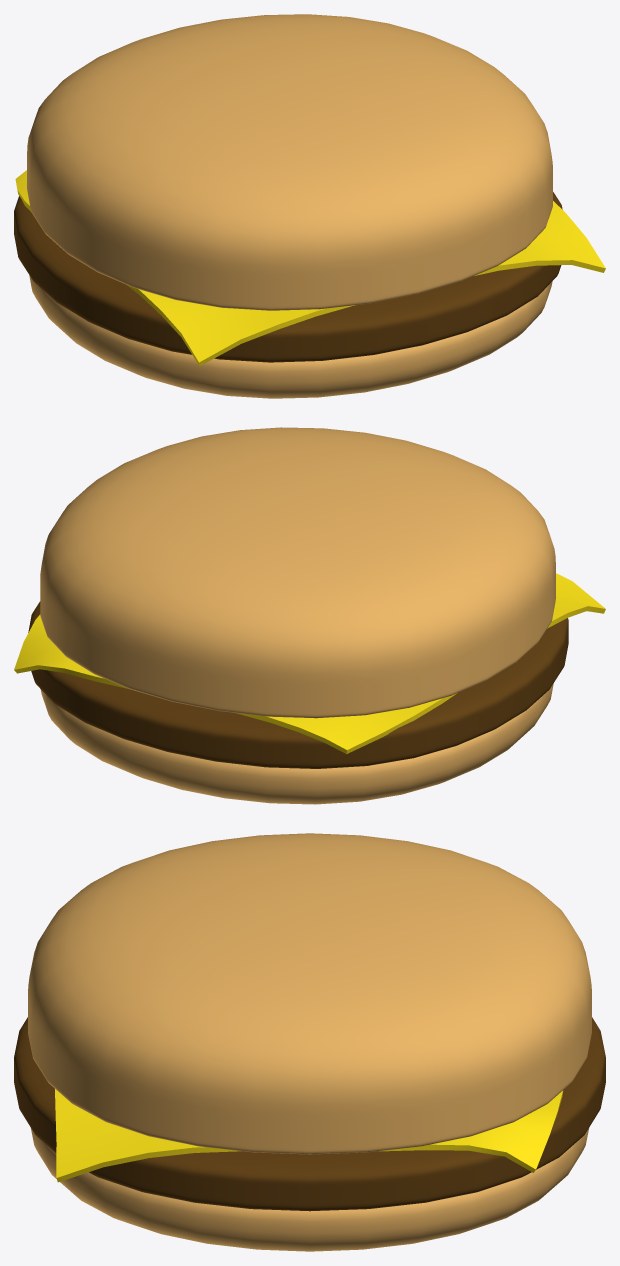
The model's file is hamburger.glb.
The picture shows the model from 3 angles, top to bottom: view 1: azimuth 30°, elevation 25°; view 2: azimuth 150°, elevation 25°; view 3: azimuth 270°, elevation 25°; orthographic projection. The views are drawn at different scales.
Visible parts, largest first — view 1: Cube.002, Cube.001, Cube, Plane; view 2: Cube.002, Cube.001, Cube, Plane; view 3: Cube.002, Cube.001, Cube, Plane.
Part boxes in pixels (box(x1,y1,x2,y2)): Cube.002: box(27, 14, 552, 310); Cube.001: box(14, 192, 562, 362); Cube: box(29, 275, 552, 398); Plane: box(15, 170, 605, 366); Cube.002: box(40, 427, 555, 718); Cube.001: box(28, 601, 568, 768); Cube: box(40, 683, 553, 804); Plane: box(14, 573, 605, 754); Cube.002: box(28, 833, 591, 1154); Cube.001: box(14, 1017, 605, 1211); Cube: box(31, 1128, 588, 1251); Plane: box(55, 1089, 563, 1182).
Bounding box in the file's own units: 9.62 × 4.66 × 9.62.
